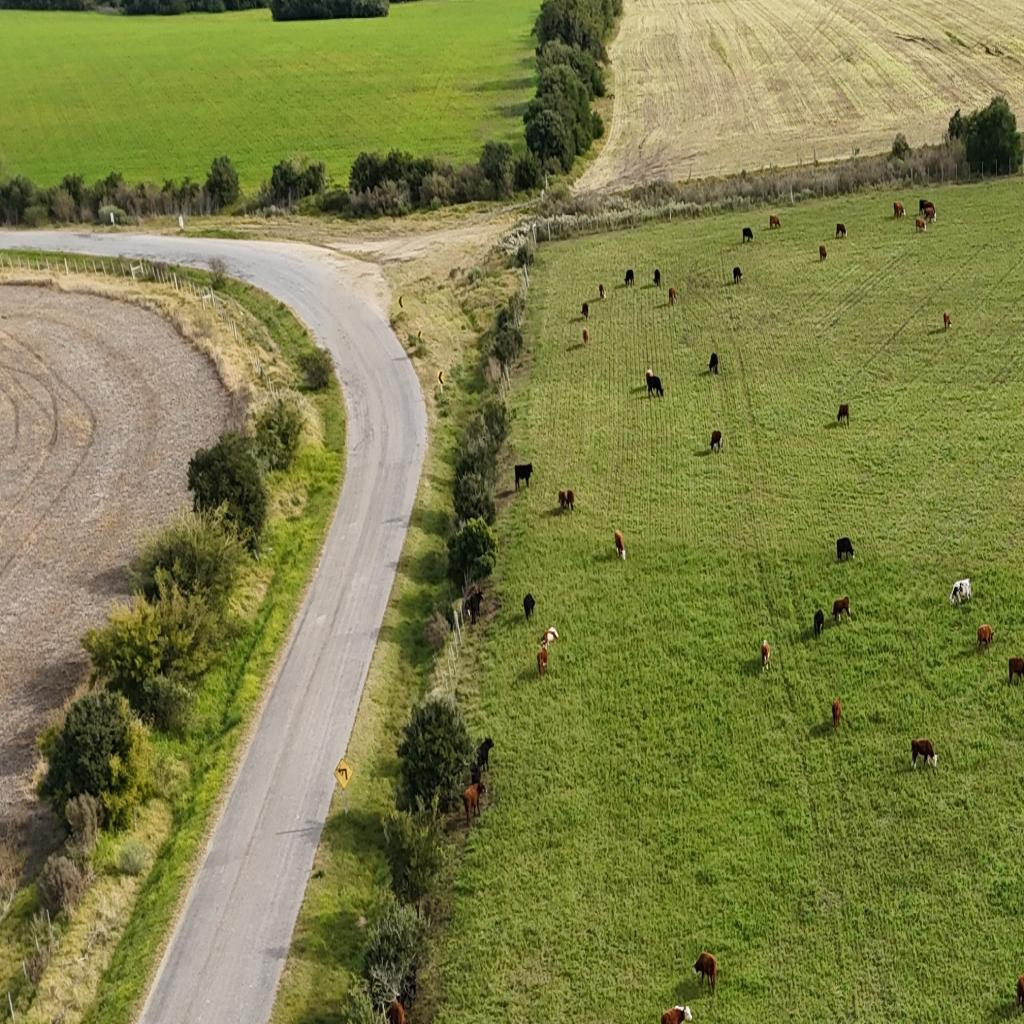cow: (462, 780, 486, 826), (693, 952, 717, 994), (910, 738, 938, 770), (475, 736, 494, 774), (949, 578, 972, 608), (467, 590, 483, 624), (832, 595, 851, 623), (514, 463, 533, 490), (1007, 655, 1024, 685), (836, 536, 855, 562), (977, 624, 994, 652), (542, 625, 560, 651), (387, 999, 405, 1024), (646, 375, 665, 397), (661, 1006, 684, 1024), (522, 592, 536, 621), (537, 644, 548, 680), (832, 697, 842, 733), (614, 528, 625, 560), (814, 609, 824, 640), (761, 638, 770, 672), (837, 404, 850, 426), (710, 430, 722, 453), (566, 489, 576, 513), (923, 205, 936, 223), (1018, 974, 1024, 1012), (914, 218, 926, 234), (558, 489, 567, 509), (668, 286, 677, 306), (710, 353, 718, 375), (836, 222, 847, 238), (625, 269, 634, 287), (733, 267, 742, 285), (743, 227, 753, 242), (770, 214, 780, 229), (598, 283, 606, 301), (944, 311, 951, 330), (819, 245, 827, 261), (646, 368, 654, 384), (582, 328, 588, 348), (582, 302, 588, 320), (654, 269, 660, 287), (894, 202, 900, 218), (514, 474, 520, 490)
